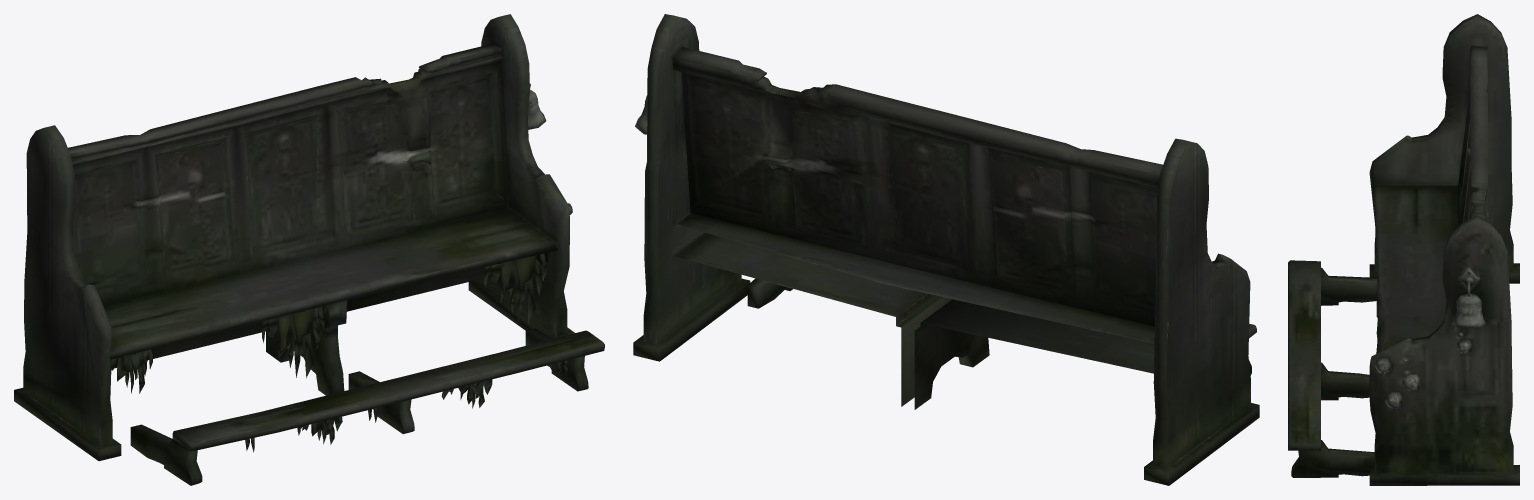
The model's file is church_pew.glb.
The picture shows the model from 3 angles, left to right: view 1: azimuth 30°, elevation 25°; view 2: azimuth 150°, elevation 25°; view 3: azimuth 270°, elevation 25°; orthographic projection. The views are drawn at different scales.
Parts seen in each view (by area): view 1: tripo_node_aa31d27e-f186-49ce-9931-396853c76a42; view 2: tripo_node_aa31d27e-f186-49ce-9931-396853c76a42; view 3: tripo_node_aa31d27e-f186-49ce-9931-396853c76a42.
Boxes of the visible parts, x1,y1,x2,y2 form: tripo_node_aa31d27e-f186-49ce-9931-396853c76a42: (14, 14, 604, 485); tripo_node_aa31d27e-f186-49ce-9931-396853c76a42: (633, 14, 1259, 485); tripo_node_aa31d27e-f186-49ce-9931-396853c76a42: (1288, 14, 1519, 485).
Bounding box in the file's own units: 0.998 × 0.5605 × 0.4395.
1 material, 1 textured.
